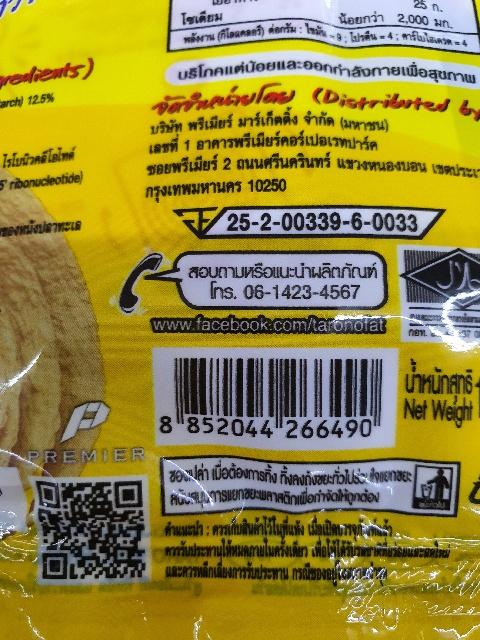Barcode: (154, 348, 398, 447)
